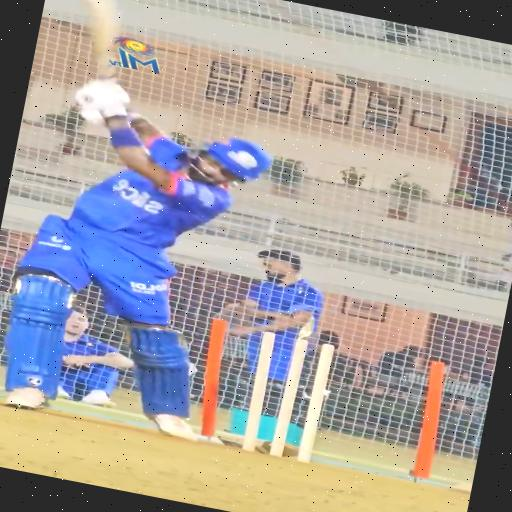Cricket bat: (85, 0, 121, 79)
